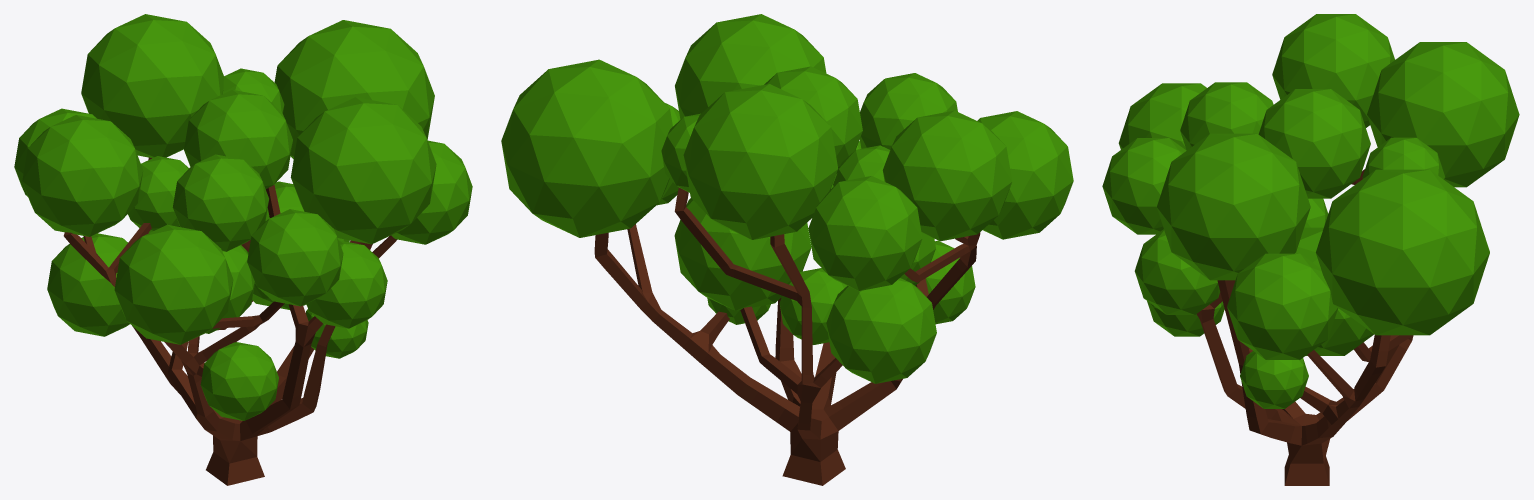
Rendered from tree.obj.
3 views of the same model, side by side, from view 1: azimuth 30°, elevation 25°; view 2: azimuth 150°, elevation 25°; view 3: azimuth 270°, elevation 25° (orthographic). The views are drawn at different scales.
Visible parts, largest first — view 1: 000_tree_crown, 001_trunk_and_branches; view 2: 000_tree_crown, 001_trunk_and_branches; view 3: 000_tree_crown, 001_trunk_and_branches.
Boxes of the visible parts, x1,y1,x2,y2 form: 000_tree_crown: (14,14,472,420); 001_trunk_and_branches: (63,157,397,485); 000_tree_crown: (501,14,1073,383); 001_trunk_and_branches: (594,187,980,485); 000_tree_crown: (1102,14,1519,408); 001_trunk_and_branches: (1196,169,1413,485).
Bounding box in the file's own units: 361 × 334 × 298.
